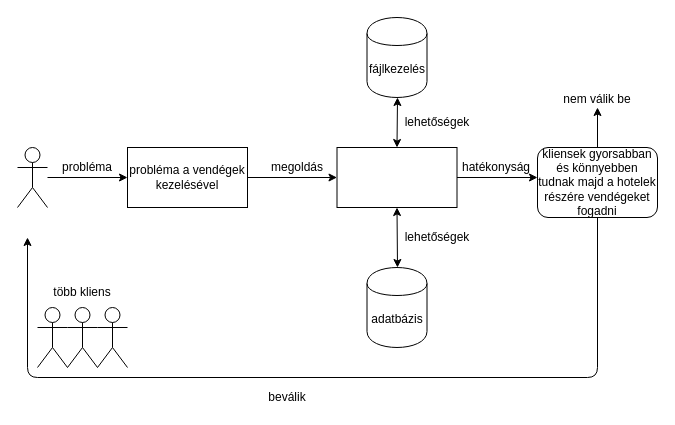
The diagram is 675 pixels wide and 425 high, and some of its shapes have lost their labels. The box of each missing label's shape, as (x1, y1, x2, y2) in pixels:
egyszerű és gyors adatbevitel, kezelő felület: (336, 146, 457, 208)
kliens: (16, 146, 48, 208)
